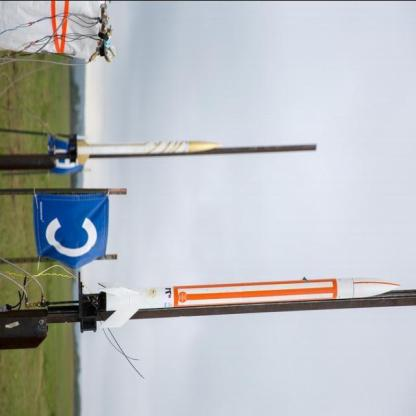MIL_TBM: (106, 268, 399, 310), (77, 136, 219, 160)
